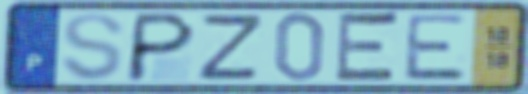0: (270, 10, 327, 85)
E: (332, 8, 403, 87), (401, 12, 470, 83)
P: (122, 10, 200, 85)
S: (58, 10, 127, 84)
Z: (193, 12, 267, 82)
